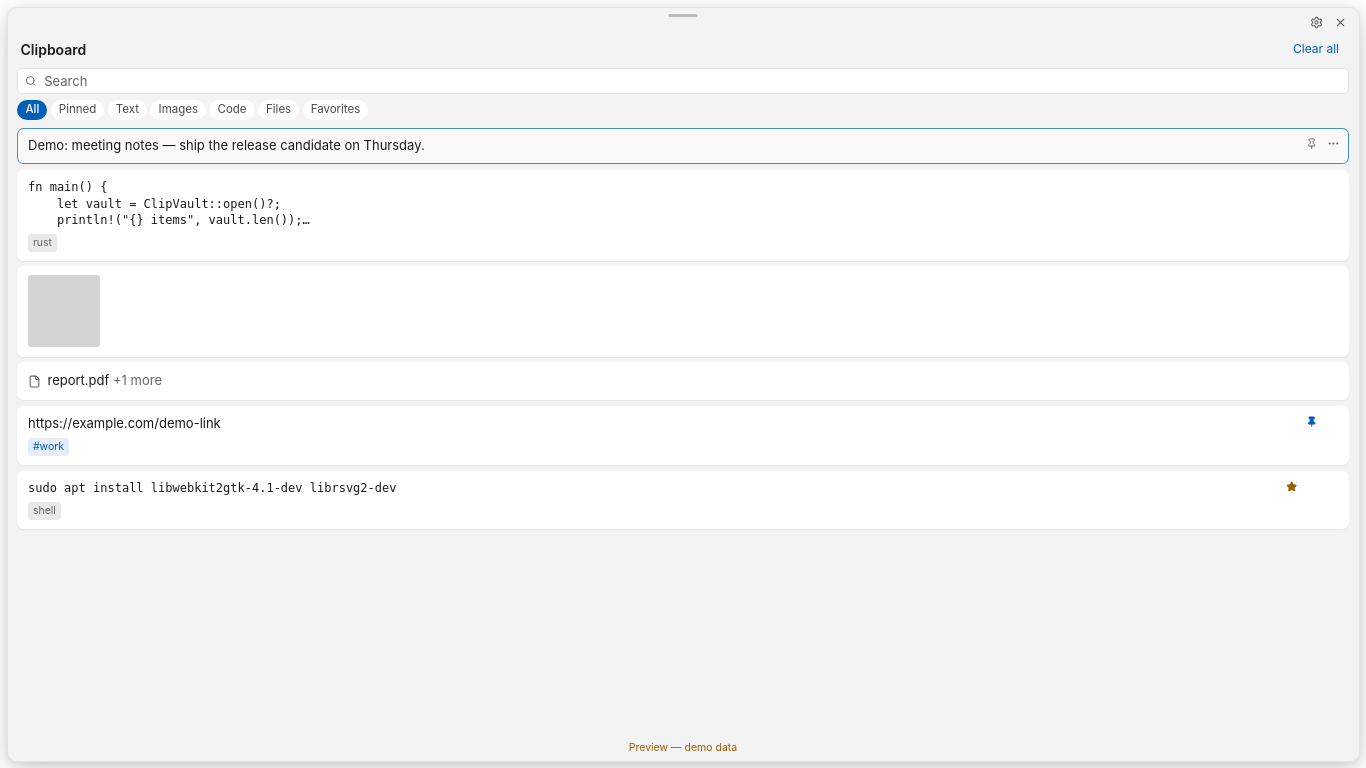
Scenario: Clipboard panel (preview backend) › adds a tag in preview and finds it with #tag search
expect the option with aria-label "Copied 2 min ago — click to paste" is shown: met, box 17,128 -> 1349,164
Type keys " "
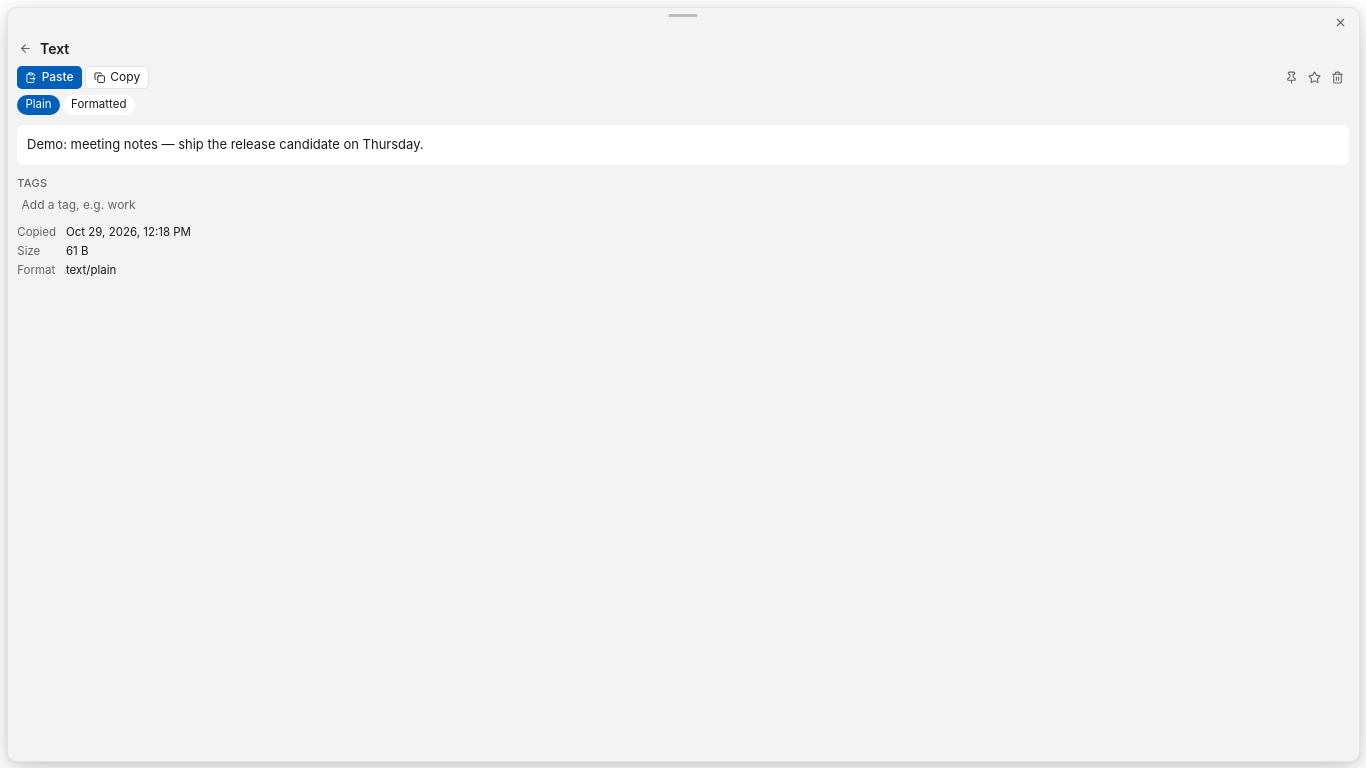
Type "Release Notes" into the field named "Add tag" at x=683, y=204, box 17,195 -> 1349,214
Then press Enter
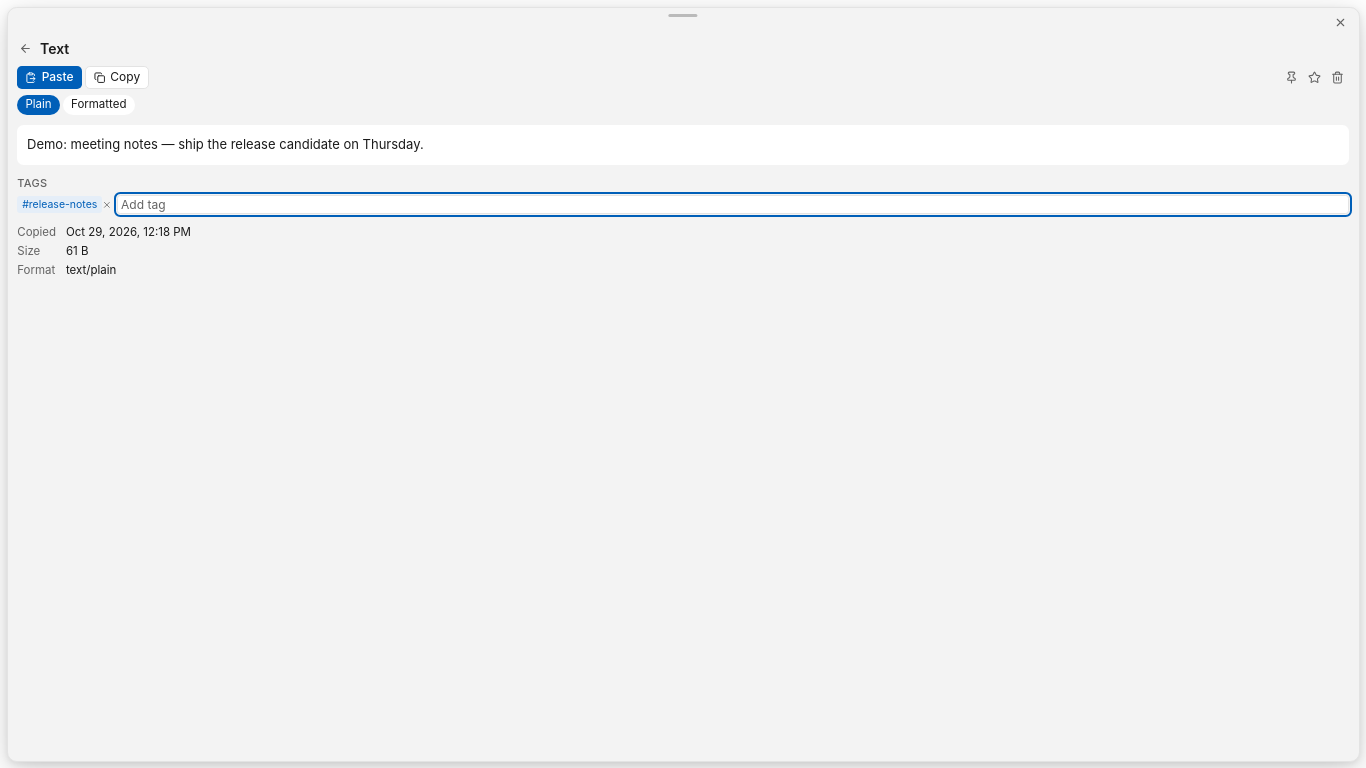
expect the text "#release-notes" is shown: met, box 17,196 -> 102,213
Press Escape
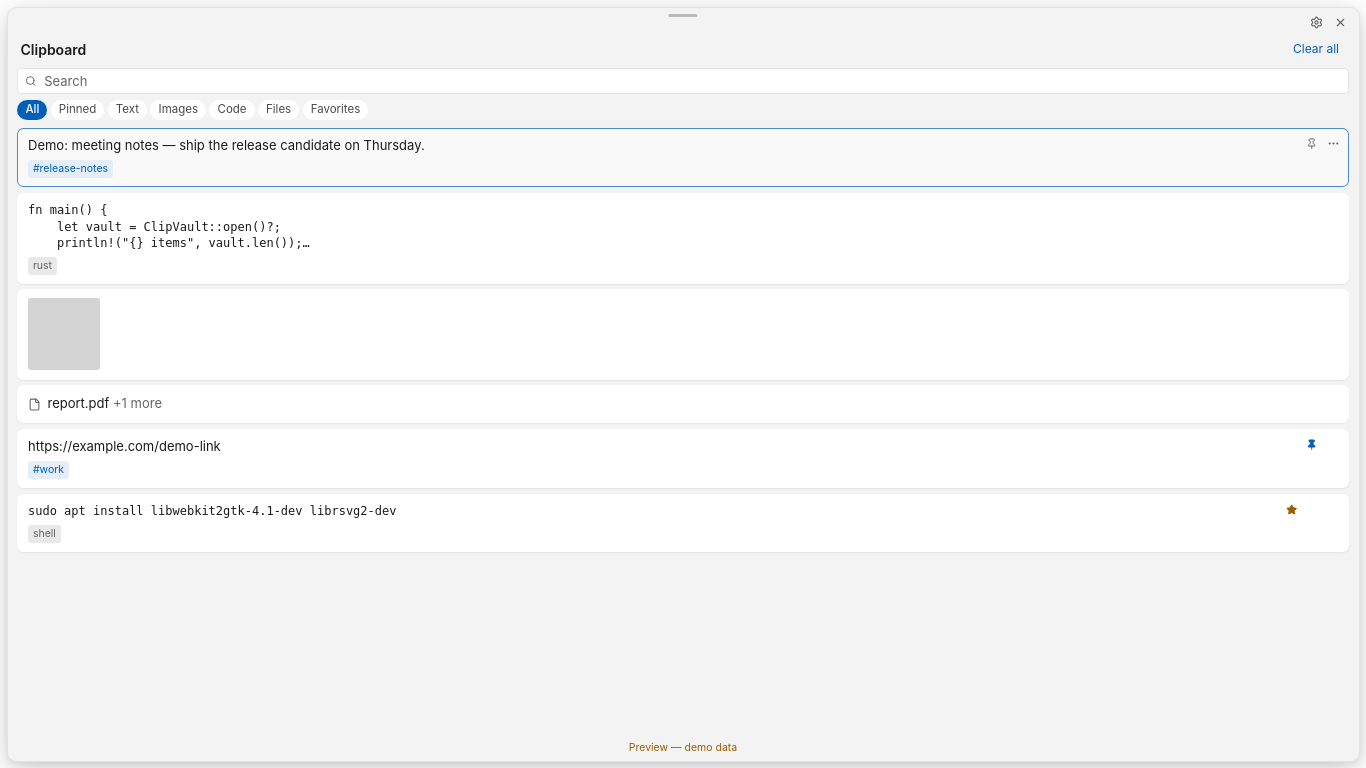
Type "#release" into the search field named "Search clipboard history" at x=683, y=81, box 17,68 -> 1349,94
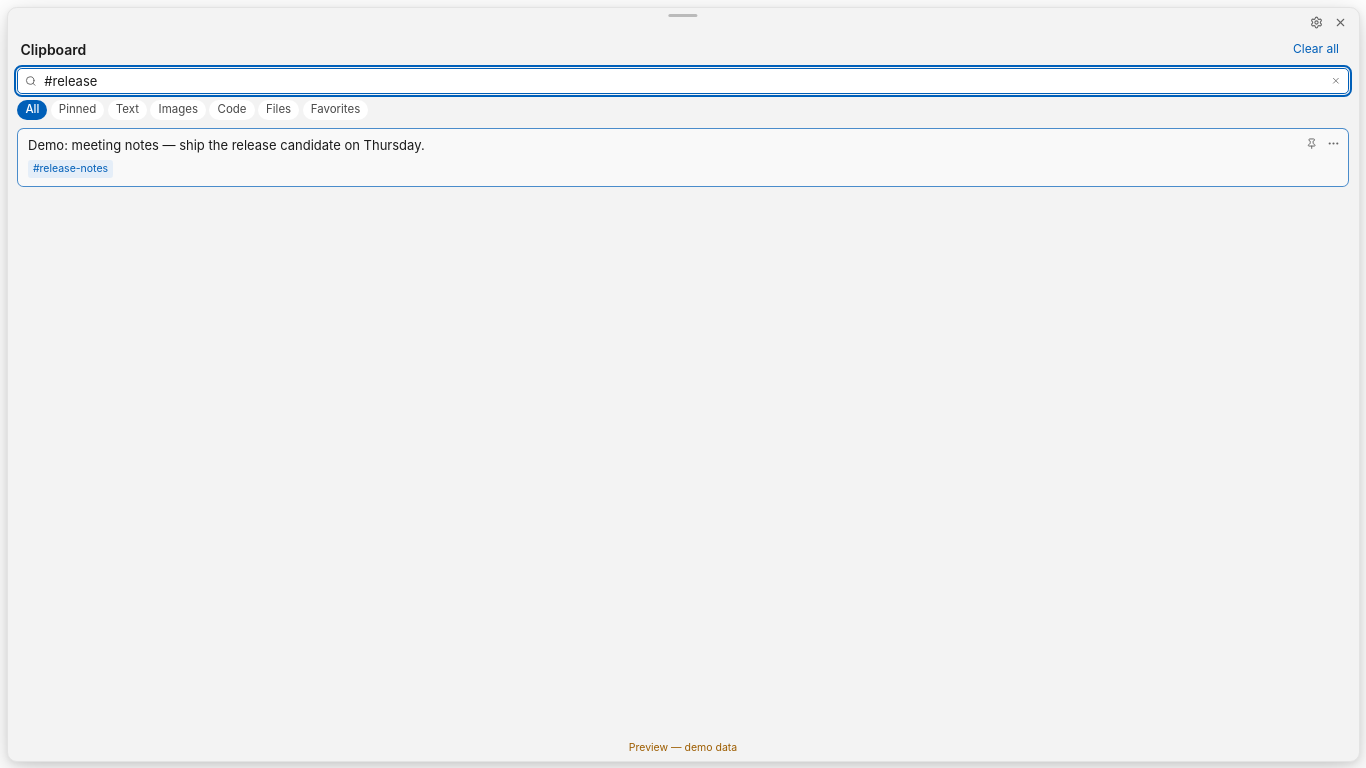
expect the number of options is 1: met, box 17,128 -> 1349,187
